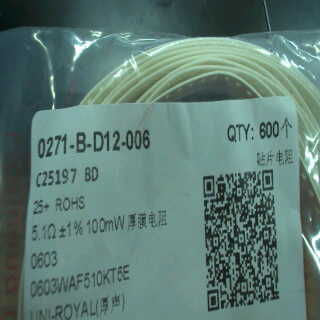5.1R: (27, 219, 57, 244)
